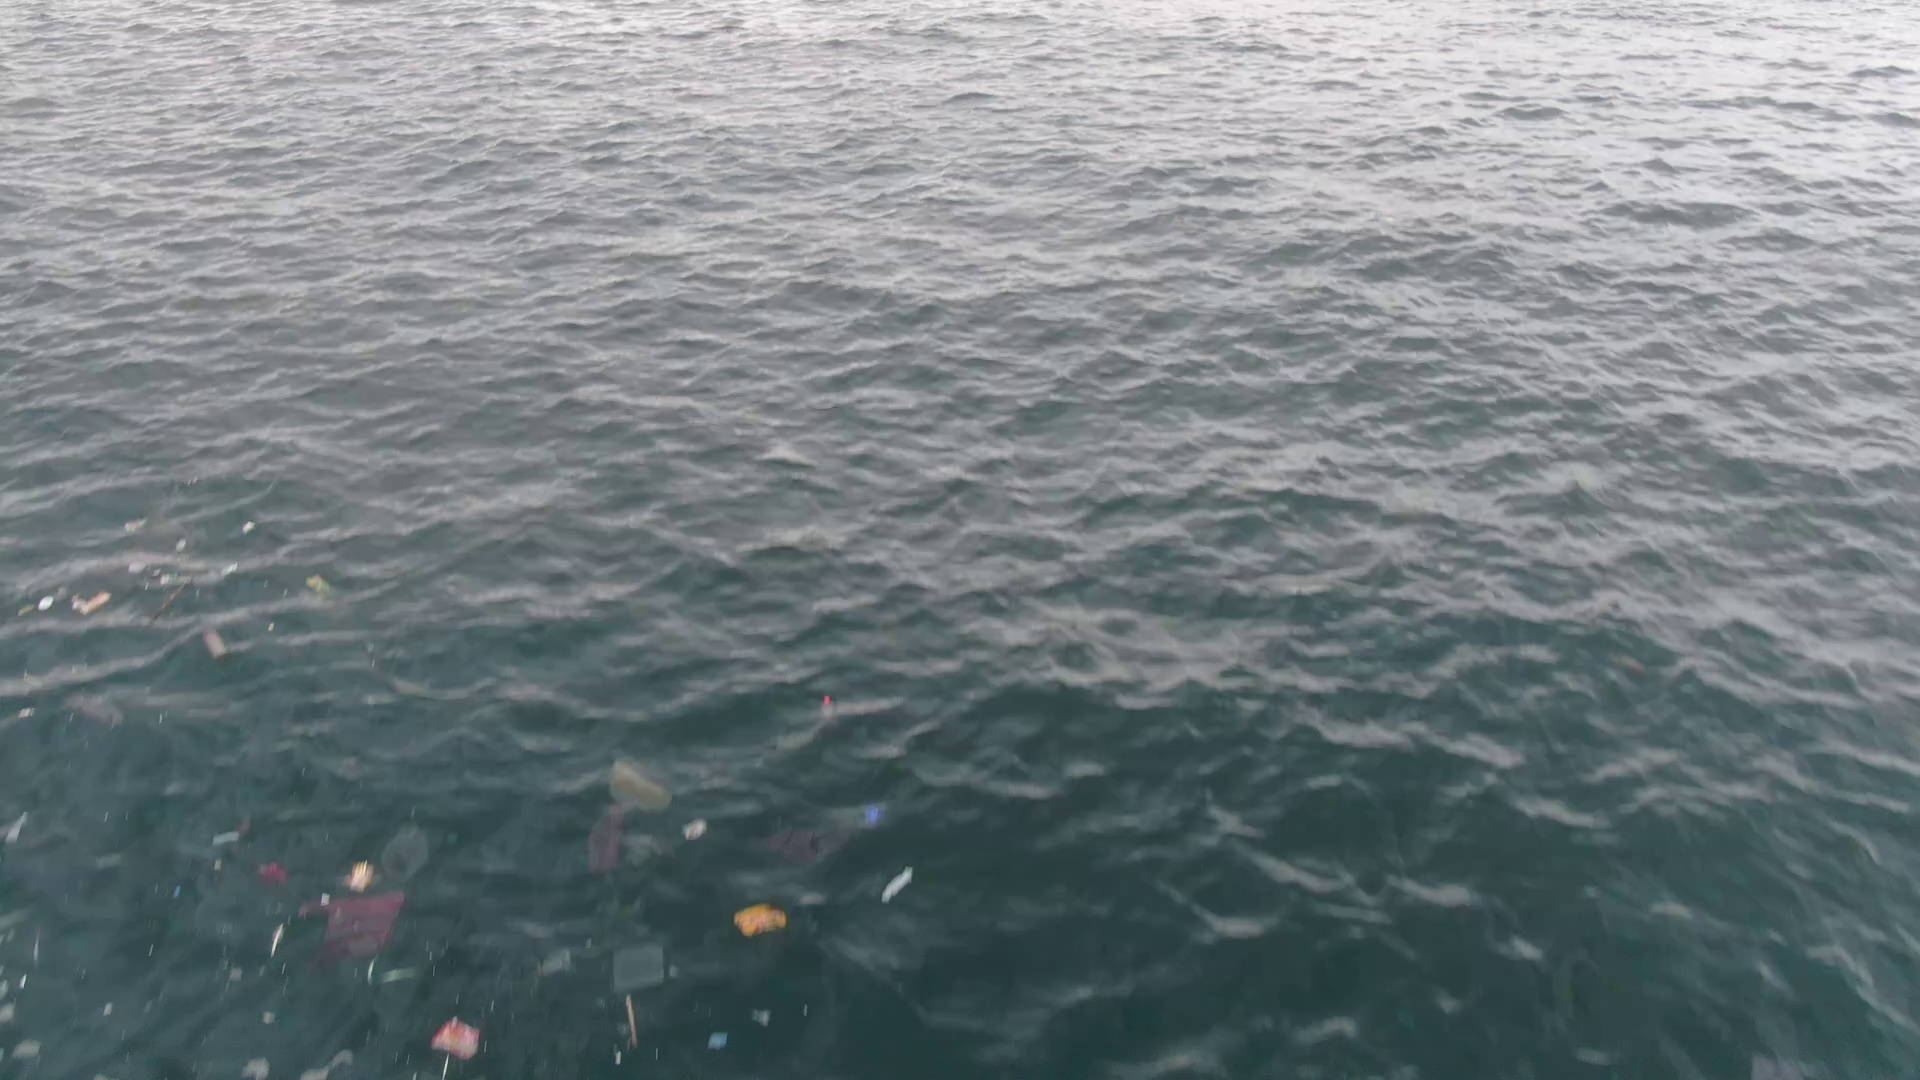garbage: (255, 848, 417, 972), (585, 756, 709, 886), (758, 804, 891, 860), (785, 695, 899, 724), (601, 945, 673, 992), (135, 563, 193, 617), (427, 1013, 484, 1065), (727, 903, 793, 939), (63, 583, 116, 618), (880, 866, 916, 906), (196, 615, 225, 665), (622, 996, 638, 1054), (749, 1007, 774, 1027), (309, 574, 331, 593), (705, 1031, 728, 1050)
